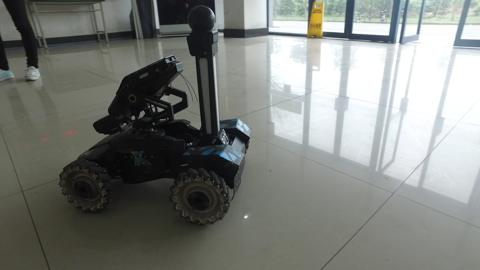chariot: (57, 4, 250, 226)
